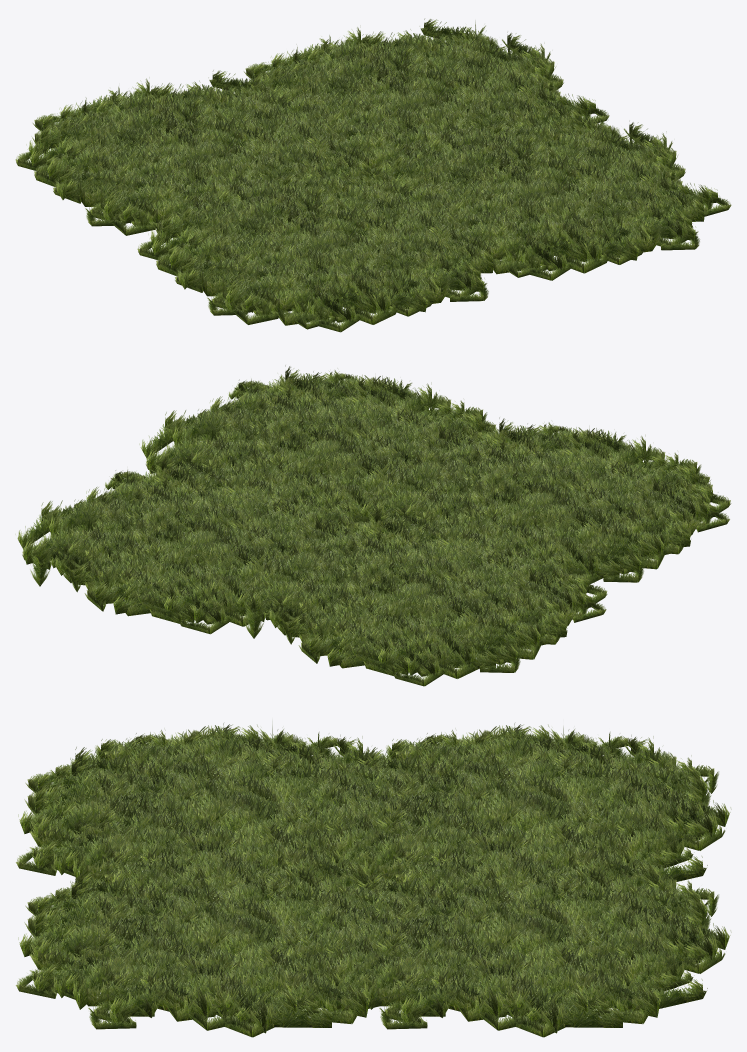
File: grass-patch.glb
3 renders of one model, top to bottom at view 1: azimuth 30°, elevation 25°; view 2: azimuth 150°, elevation 25°; view 3: azimuth 270°, elevation 25°, orthographic. The views are drawn at different scales.
Visible parts, largest first — view 1: Material2; view 2: Material2; view 3: Material2.
Part boxes in pixels (x1,y1,x2,y2): Material2: [15, 19, 731, 332]; Material2: [15, 365, 731, 686]; Material2: [16, 723, 731, 1037].
Bounding box in the file's own units: 95.85 × 5.1 × 97.27.
Materials: 1 (1 with a texture image).
